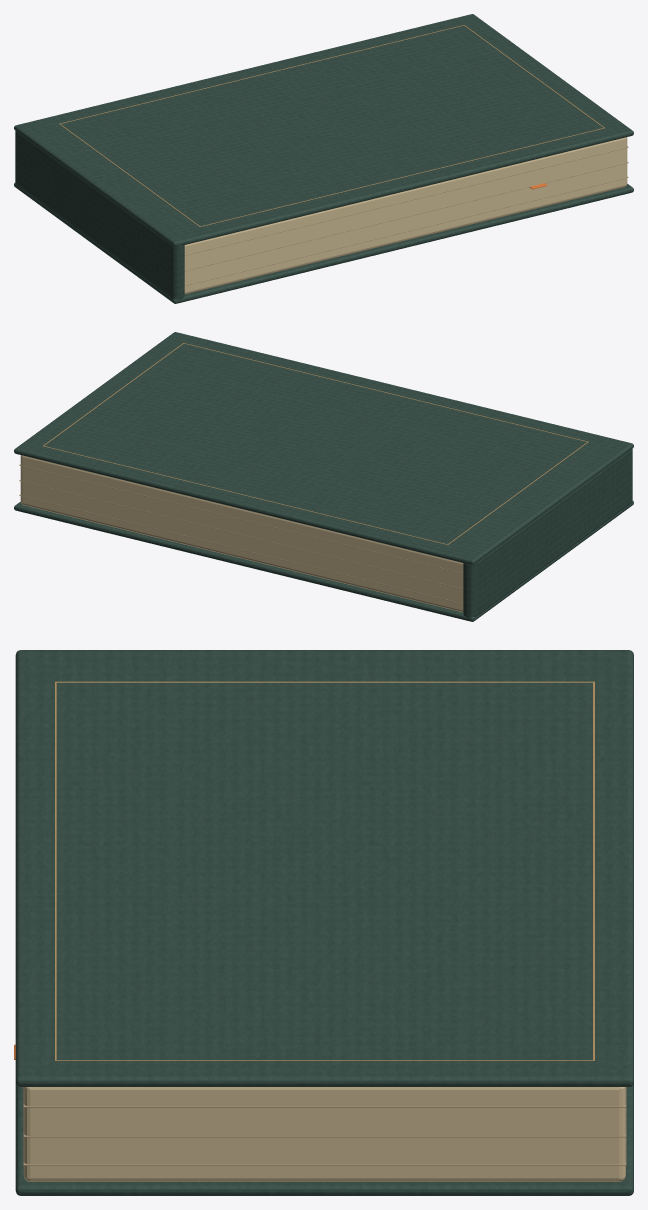
File: book.glb
3 views of the same model, one above another, from view 1: azimuth 30°, elevation 25°; view 2: azimuth 150°, elevation 25°; view 3: azimuth 270°, elevation 25° (orthographic). The views are drawn at different scales.
Visible parts, largest first — view 1: book; view 2: book; view 3: book.
Part boxes in pixels (box(x1,y1,x2,y2)): book: box(14, 14, 633, 303); book: box(14, 332, 633, 621); book: box(14, 650, 633, 1195).
Bounding box in the file's own units: 0.14 × 0.018 × 0.0853.
5 materials, 1 textured.
